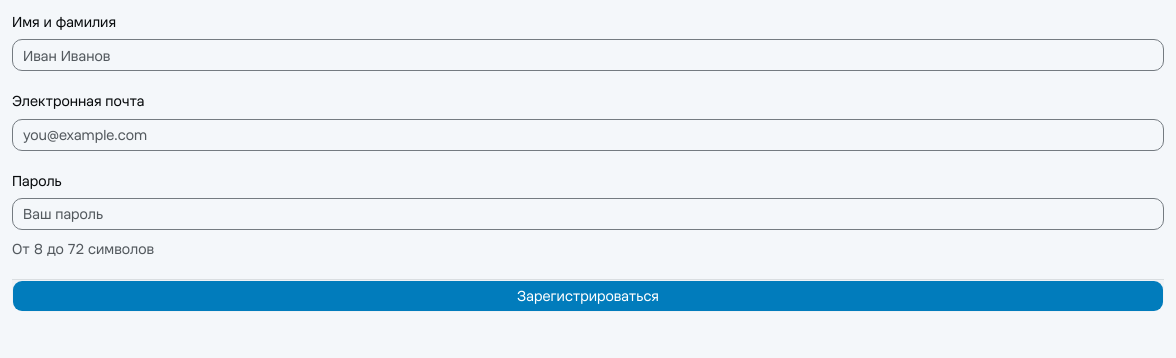
SignUpForm › reports a taken email from the backend error envelope
In the field labelled "Имя и фамилия": coordinates (588, 55) [12,39,1164,71], type "Иван"
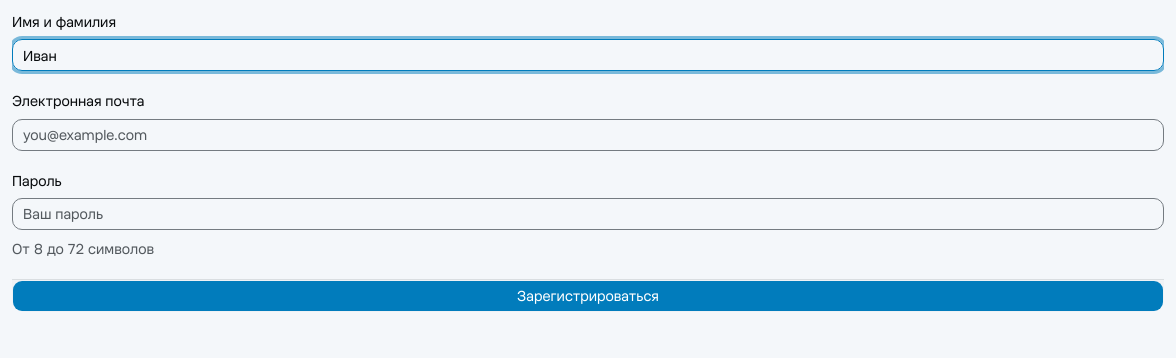
In the field labelled "Электронная почта": coordinates (588, 134) [12,118,1164,150], type "taken@example.com"
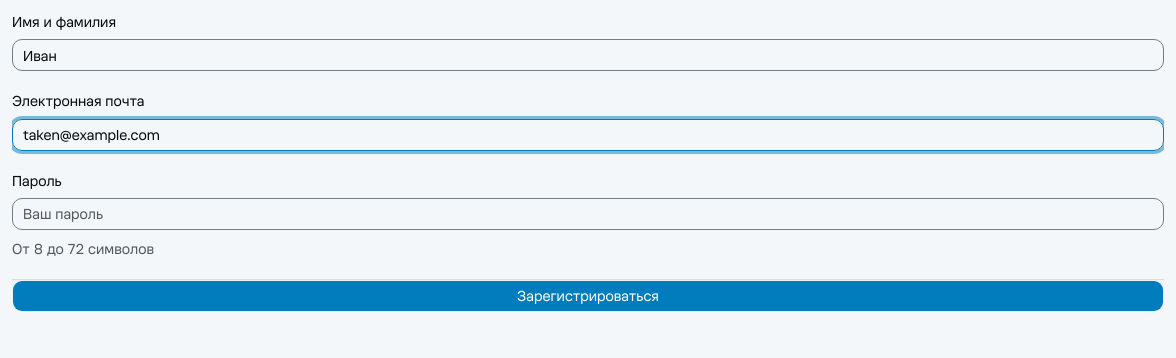
In the password field labelled "Пароль": coordinates (588, 214) [12,198,1164,230], type "demo1234"
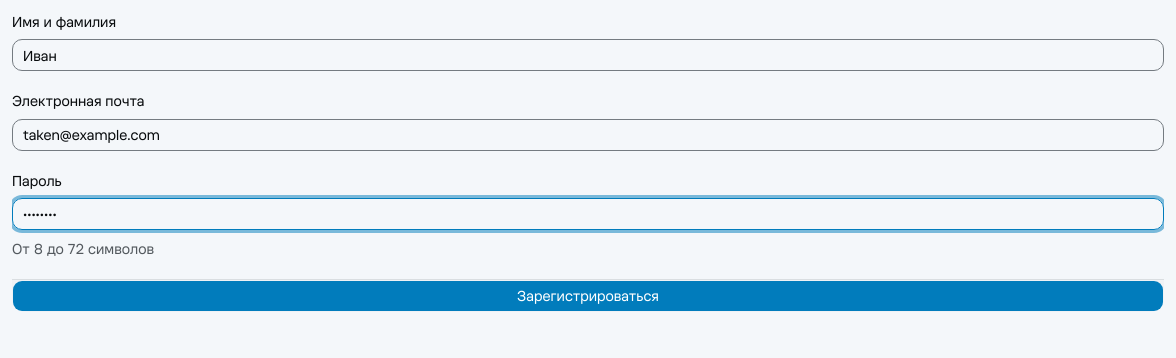
Click the button "Зарегистрироваться": coordinates (588, 296) [12,280,1164,312]
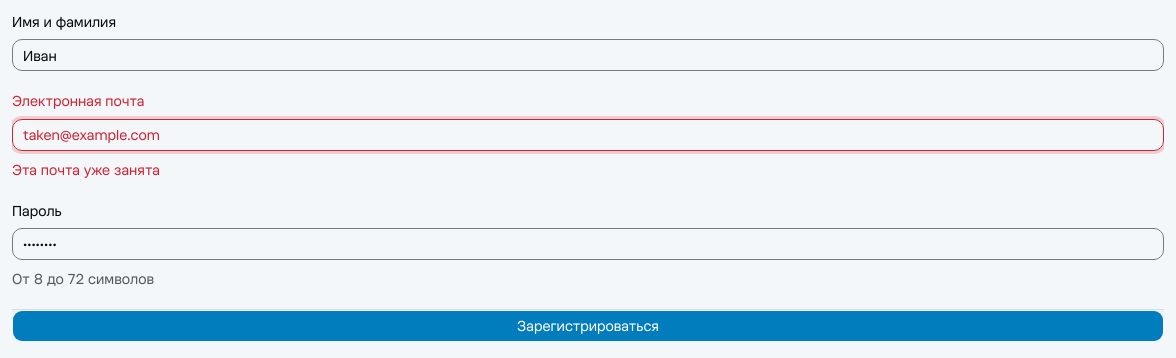
Check: the text "Эта почта уже занята" is shown, box [12,160,160,178]
